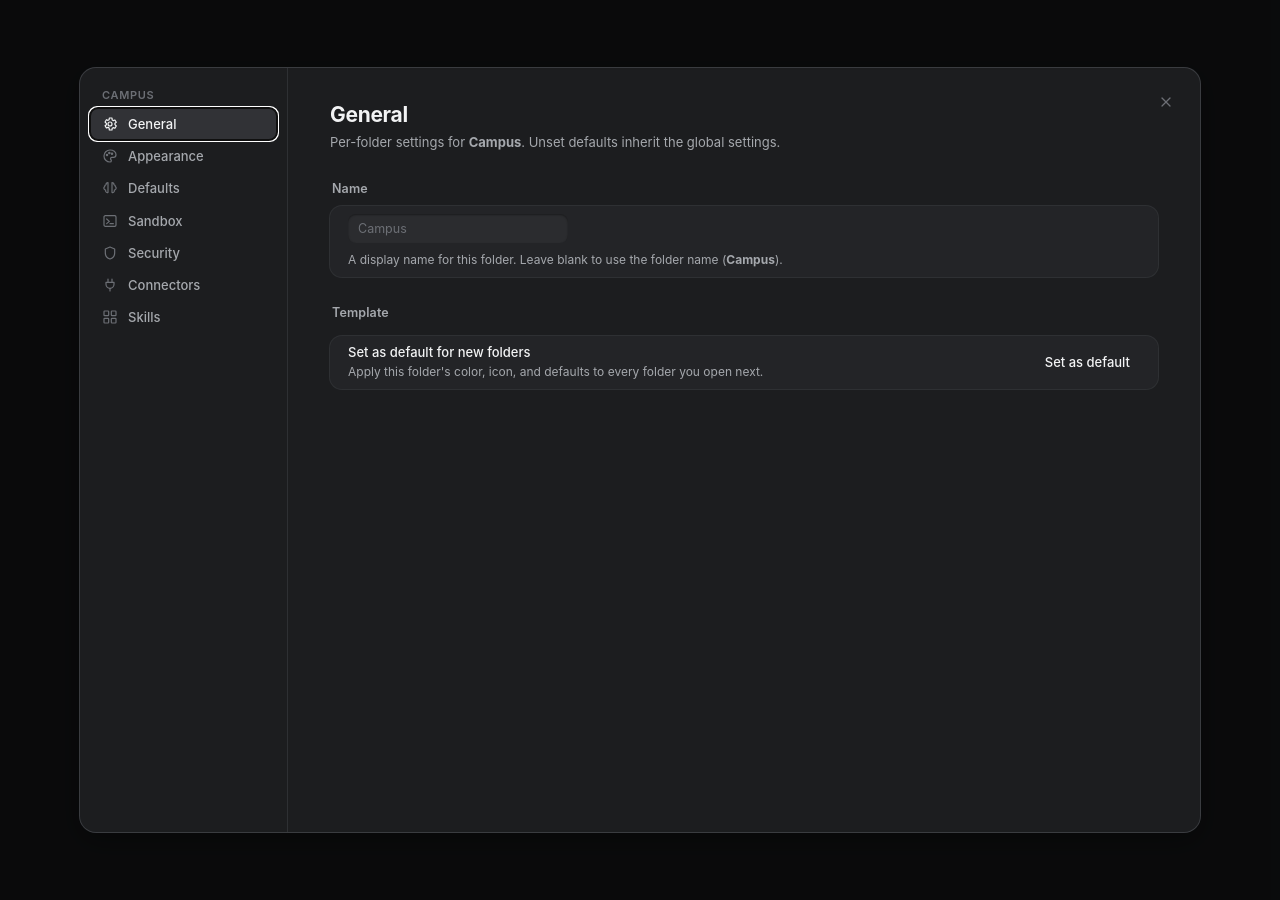
Test: ProjectSettingsModal — Sandbox page › the Sandbox nav item renders and switches to the page
Click the button "Sandbox".
click(184, 221)  # box left=90, top=205, right=277, bottom=237
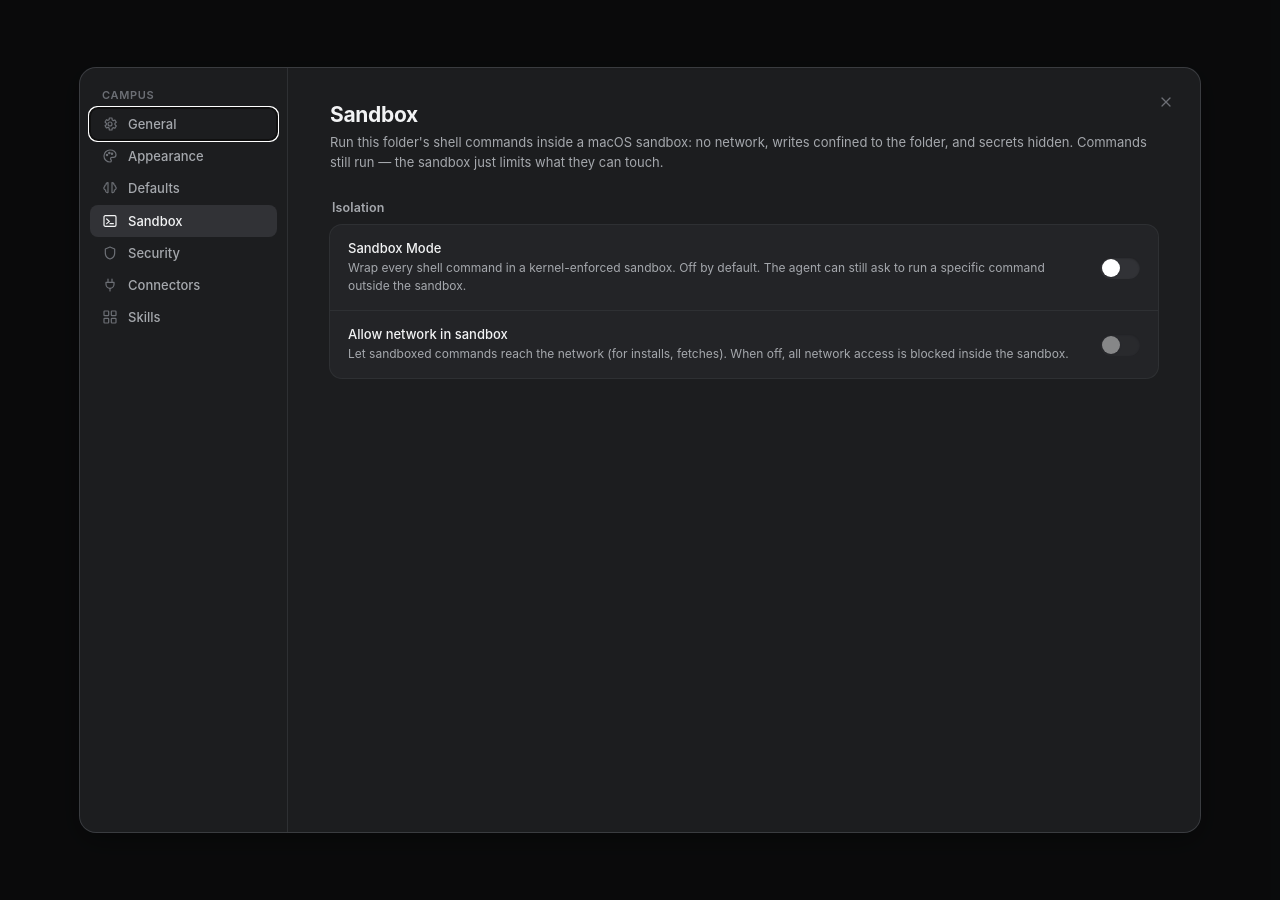
Expected: the text "Sandbox" below "Campus" is shown, left=128, top=213, right=182, bottom=229
Expected: the switch named "Enable sandbox mode" is shown, left=1100, top=256, right=1140, bottom=278
